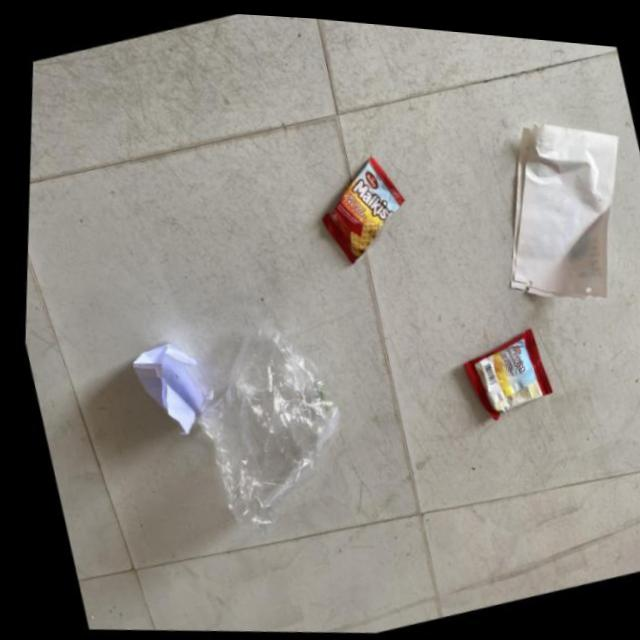food: (435, 83, 640, 340), (100, 331, 215, 455)
leaf: (432, 313, 591, 472), (292, 142, 417, 283)
metal: (158, 303, 371, 597)
